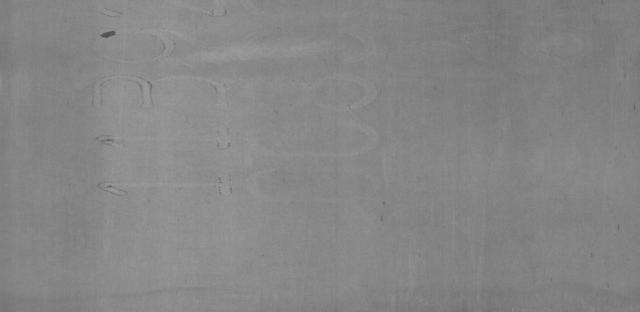oil_spot: (92, 26, 124, 44)
